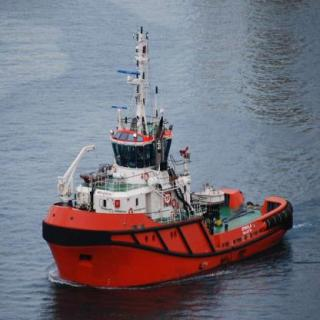Tug Boat: (42, 90, 290, 287)
